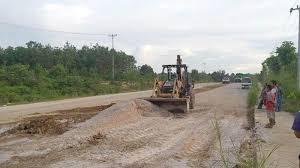Pothole: (11, 108, 121, 141)
